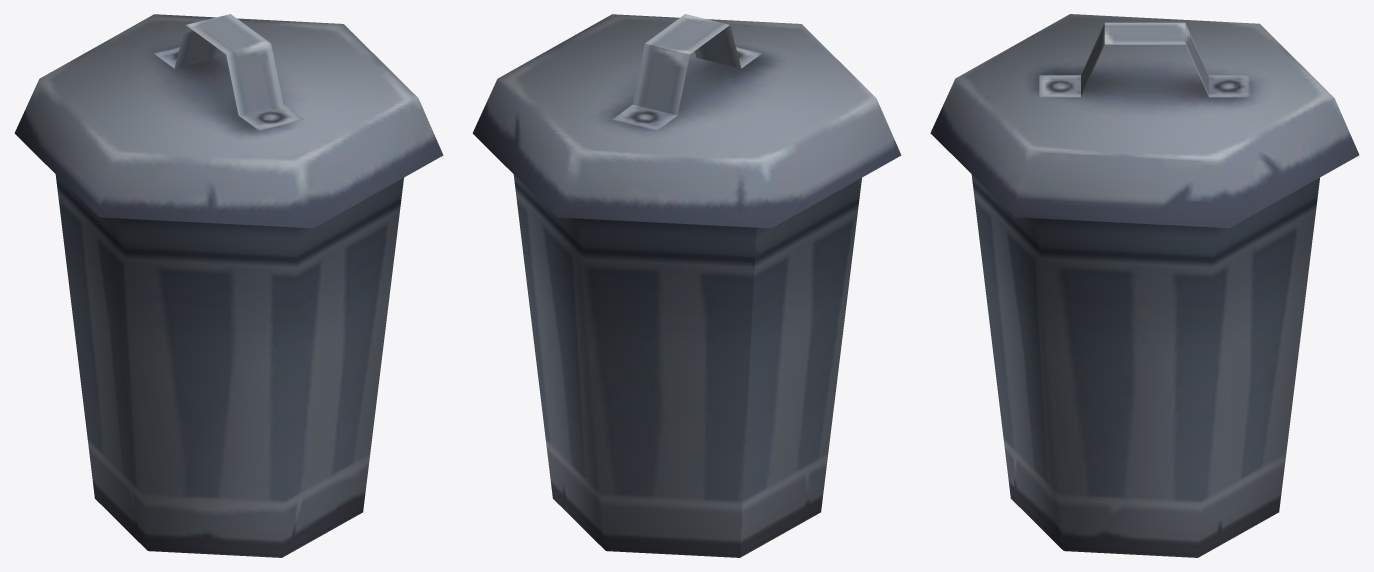
The model's file is SYJ_lajitong03.FBX.
3 views of the same model, side by side, from view 1: azimuth 30°, elevation 25°; view 2: azimuth 150°, elevation 25°; view 3: azimuth 270°, elevation 25° (orthographic).
Parts seen in each view (by area): view 1: SYJ_lajitong03; view 2: SYJ_lajitong03; view 3: SYJ_lajitong03.
Part boxes in pixels (left/top/right/bottom): SYJ_lajitong03: left=14, top=14, right=443, bottom=557; SYJ_lajitong03: left=472, top=14, right=901, bottom=557; SYJ_lajitong03: left=930, top=14, right=1359, bottom=557.
Bounding box in the file's own units: 43.25 × 56.57 × 46.66.
